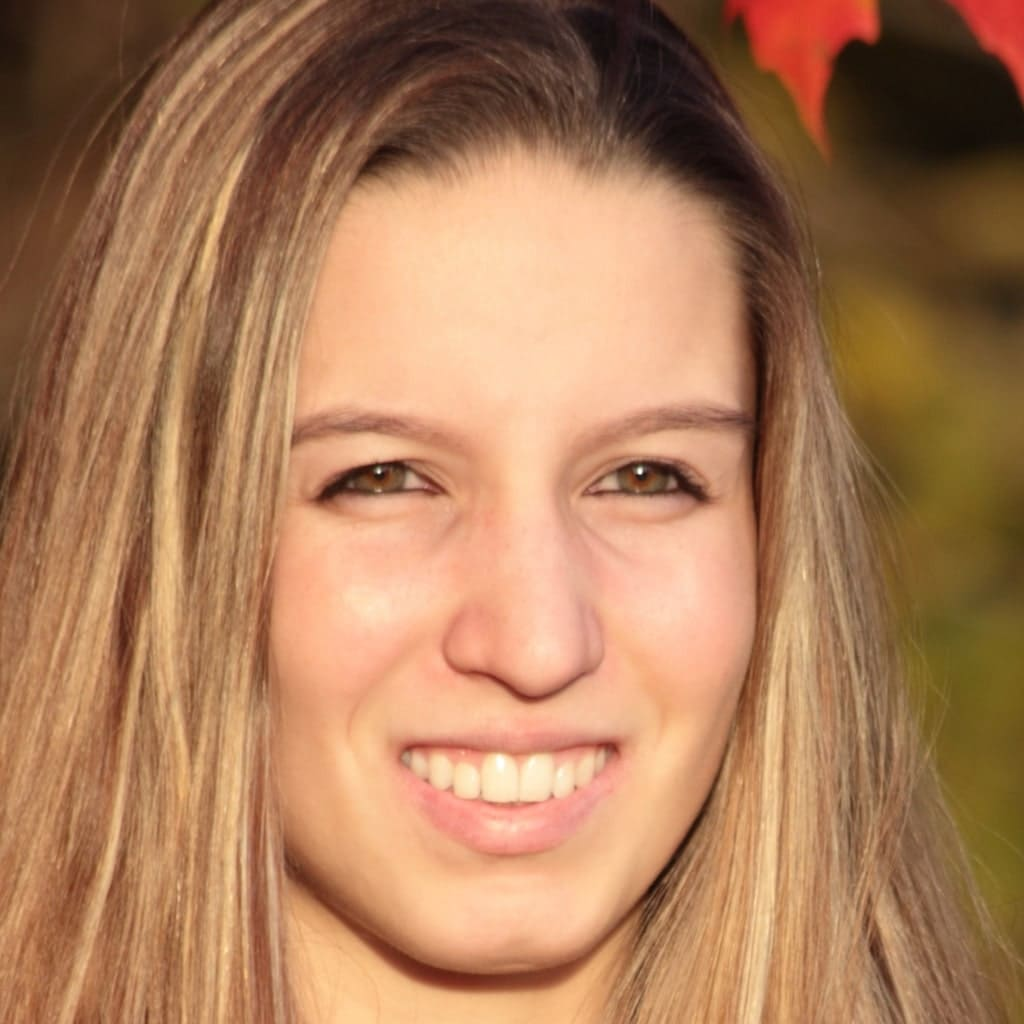without_mask: (266, 253, 746, 1024)
